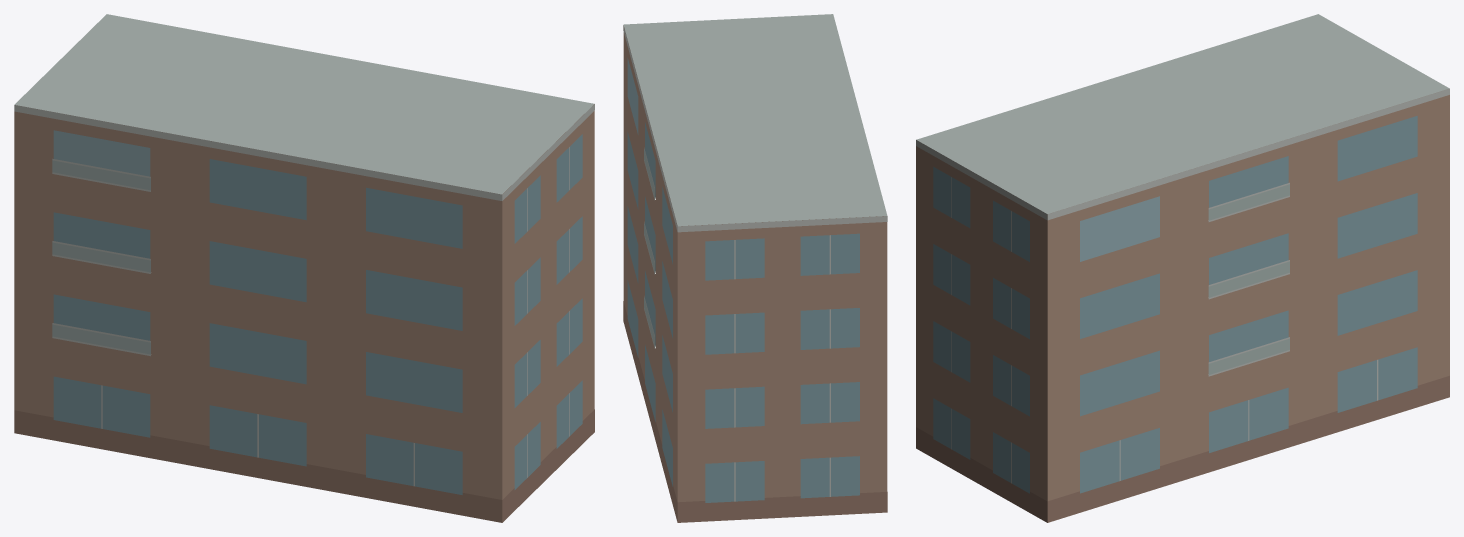
Rendered from survey-upis-32806587.glb.
3 renders of one model, left to right at view 1: azimuth 30°, elevation 25°; view 2: azimuth 150°, elevation 25°; view 3: azimuth 270°, elevation 25°, orthographic. The views are drawn at different scales.
Parts seen in each view (by area): view 1: survey-upis-32806587.tmp; view 2: survey-upis-32806587.tmp; view 3: survey-upis-32806587.tmp.
Boxes of the visible parts, x1,y1,x2,y2 form: survey-upis-32806587.tmp: [14, 14, 594, 522]; survey-upis-32806587.tmp: [623, 14, 887, 522]; survey-upis-32806587.tmp: [916, 14, 1449, 522].
Bounding box in the file's own units: 16.7 × 12 × 18.81.
